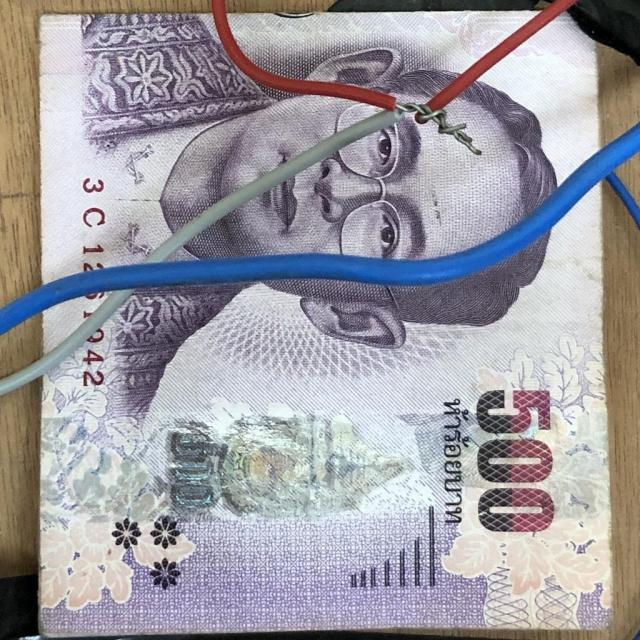THAI500: (40, 191, 610, 636), (171, 14, 598, 259), (41, 13, 375, 281), (231, 11, 533, 100)
